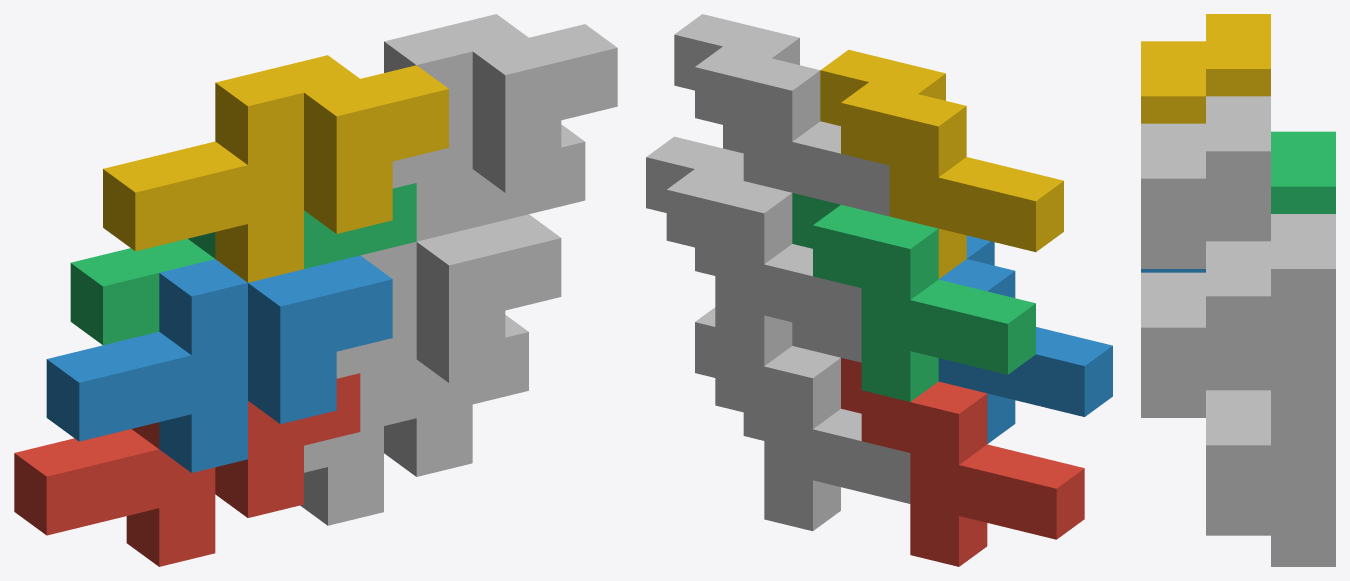
Rendered from tiling.obj.
3 renders of one model, left to right at view 1: azimuth 30°, elevation 25°; view 2: azimuth 150°, elevation 25°; view 3: azimuth 270°, elevation 25°, orthographic. The views are drawn at different scales.
Parts seen in each view (by area): view 1: copy_1_domain_4, copy_1_domain_2, copy_1_domain_8, copy_1_domain_1, copy_1_domain_6, copy_1_domain_5, copy_1_domain_3, copy_1_domain_7; view 2: copy_1_domain_4, copy_1_domain_3, copy_1_domain_7, copy_1_domain_1, copy_1_domain_8, copy_1_domain_5, copy_1_domain_2, copy_1_domain_6; view 3: copy_1_domain_7, copy_1_domain_5, copy_1_domain_8, copy_1_domain_4, copy_1_domain_6, copy_1_domain_3, copy_1_domain_2.
Boxes of the visible parts, <box> form: copy_1_domain_4: <box>103,55,448,282</box>; copy_1_domain_2: <box>46,255,392,472</box>; copy_1_domain_8: <box>384,14,617,241</box>; copy_1_domain_1: <box>14,373,360,566</box>; copy_1_domain_6: <box>336,214,561,431</box>; copy_1_domain_5: <box>300,315,528,525</box>; copy_1_domain_3: <box>70,183,416,345</box>; copy_1_domain_7: <box>472,124,585,227</box>; copy_1_domain_4: <box>820,49,1063,278</box>; copy_1_domain_3: <box>792,193,1035,401</box>; copy_1_domain_7: <box>646,136,861,366</box>; copy_1_domain_1: <box>841,358,1084,566</box>; copy_1_domain_8: <box>674,14,889,216</box>; copy_1_domain_5: <box>695,307,910,531</box>; copy_1_domain_2: <box>938,235,1112,443</box>; copy_1_domain_6: <box>792,322,861,362</box>; copy_1_domain_7: <box>1206,214,1335,417</box>; copy_1_domain_5: <box>1206,390,1335,566</box>; copy_1_domain_8: <box>1141,96,1270,268</box>; copy_1_domain_4: <box>1141,14,1270,123</box>; copy_1_domain_6: <box>1141,272,1270,417</box>; copy_1_domain_3: <box>1271,131,1335,213</box>; copy_1_domain_2: <box>1141,269,1205,272</box>.
Bounding box in the file's own units: 9 × 8 × 3.
